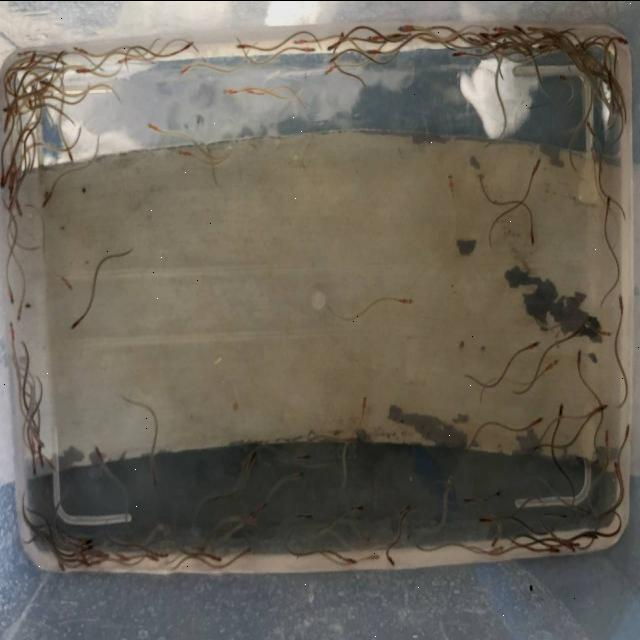glass_eel: (396, 292, 416, 308), (67, 314, 87, 330), (247, 448, 258, 472), (444, 471, 454, 497), (60, 274, 74, 292), (94, 444, 105, 466), (8, 318, 18, 342), (294, 450, 312, 463), (6, 276, 14, 304), (150, 464, 160, 486), (14, 300, 24, 322), (45, 454, 57, 472), (530, 413, 544, 428), (238, 545, 253, 559), (34, 447, 44, 468), (222, 85, 238, 98), (398, 500, 411, 516), (30, 452, 38, 478), (531, 156, 543, 173), (386, 552, 397, 570), (546, 356, 560, 370), (72, 42, 88, 54), (146, 120, 162, 132), (144, 550, 160, 562), (451, 48, 468, 59), (617, 292, 625, 315), (292, 467, 306, 480), (360, 392, 370, 410), (462, 495, 478, 506), (512, 22, 526, 34), (301, 508, 313, 522), (2, 115, 10, 135), (75, 65, 91, 75), (40, 194, 50, 210), (300, 44, 316, 54), (589, 142, 597, 162), (528, 226, 536, 246), (594, 403, 610, 413), (584, 530, 600, 540), (490, 531, 500, 547), (345, 434, 361, 444), (56, 555, 66, 571), (180, 62, 193, 74), (526, 338, 539, 350), (16, 198, 24, 217), (292, 36, 307, 46), (398, 22, 413, 32), (8, 181, 15, 202), (66, 142, 74, 160), (323, 64, 335, 76), (575, 348, 583, 366), (578, 504, 590, 516), (565, 541, 577, 553), (244, 508, 256, 520), (573, 323, 584, 336), (28, 51, 38, 65), (466, 34, 480, 44), (585, 119, 595, 133), (613, 459, 620, 479), (478, 515, 492, 525), (368, 552, 382, 562), (80, 540, 94, 550), (0, 164, 6, 187), (500, 36, 508, 53), (366, 33, 381, 42), (479, 29, 494, 38), (183, 39, 195, 50), (82, 534, 94, 545), (115, 55, 128, 65), (599, 328, 612, 338), (337, 30, 345, 46), (557, 402, 565, 418), (178, 148, 192, 157), (236, 41, 250, 50), (493, 23, 507, 32), (16, 49, 28, 59), (242, 84, 254, 94), (616, 34, 628, 44), (624, 422, 630, 442), (603, 428, 609, 448), (556, 510, 568, 520), (352, 502, 364, 512), (156, 550, 168, 560), (5, 74, 13, 88), (526, 24, 540, 32), (606, 74, 613, 90), (492, 544, 506, 552), (344, 556, 358, 564), (2, 104, 14, 113), (327, 42, 339, 51), (367, 46, 379, 55), (605, 194, 611, 212), (18, 108, 28, 118), (26, 96, 34, 108), (328, 54, 340, 62), (548, 545, 560, 553), (260, 498, 268, 510), (214, 553, 224, 562), (40, 78, 51, 86), (571, 540, 582, 548), (558, 73, 568, 81), (536, 43, 546, 48)
